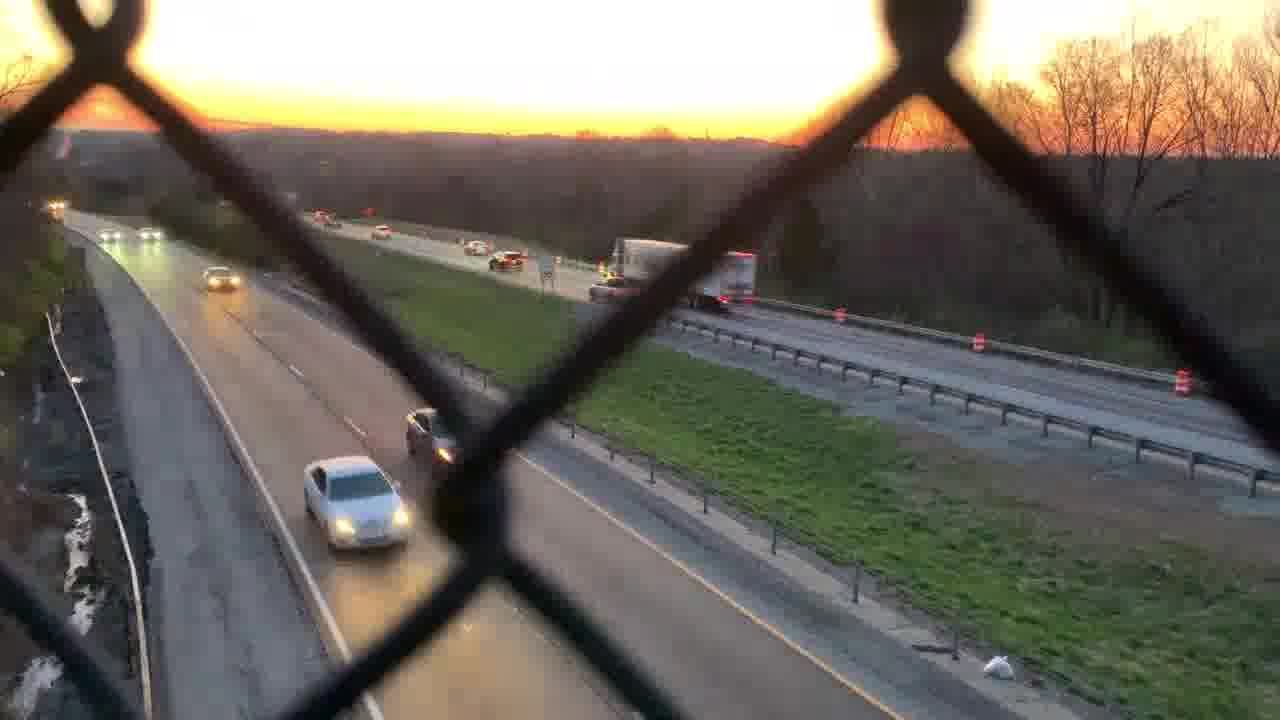heavyTruck: (609, 232, 759, 309)
largeCar: (487, 250, 521, 273)
smallCar: (300, 455, 413, 549), (202, 262, 243, 294)
